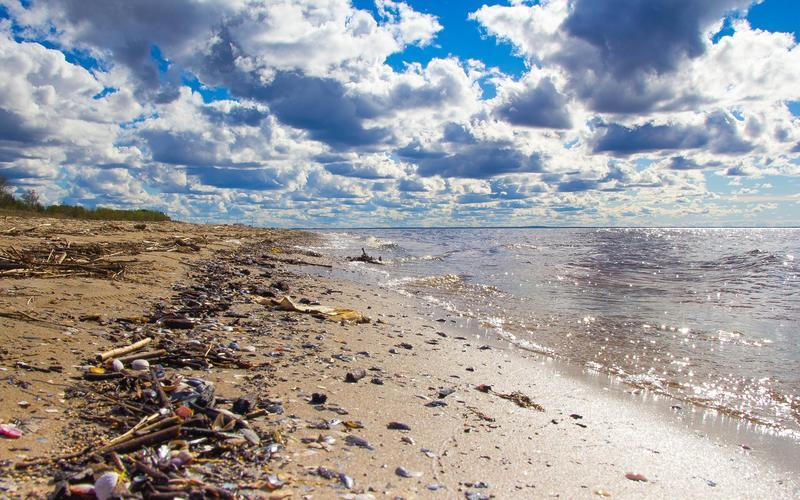garbage: (51, 213, 368, 497)
